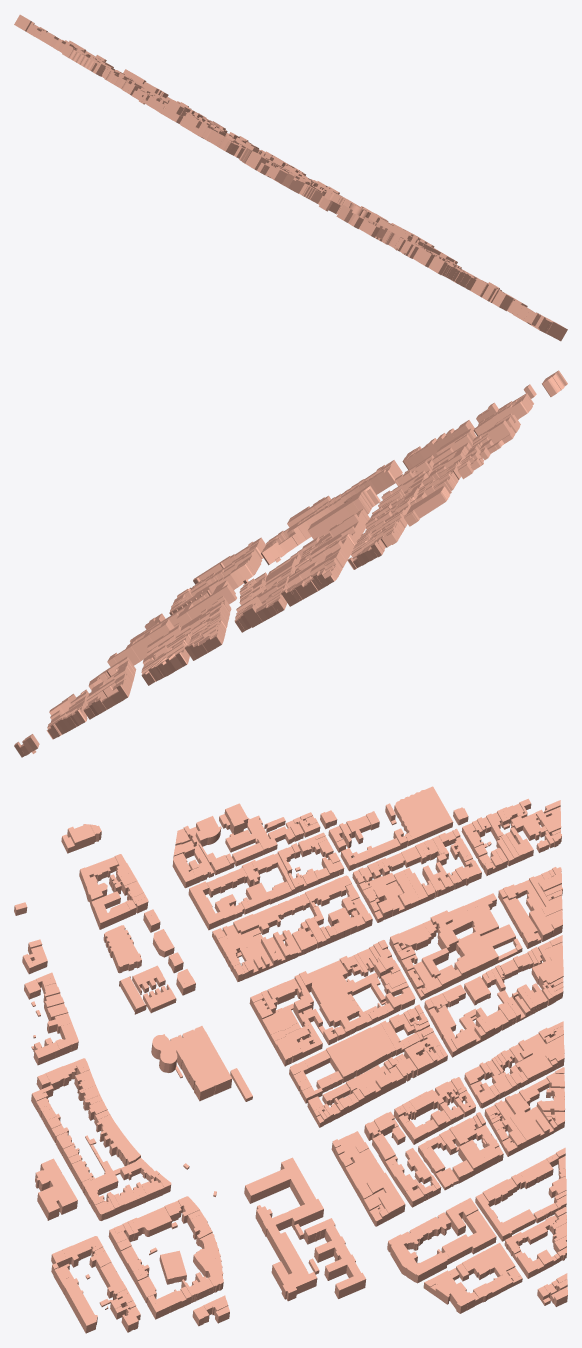
The picture shows the model from 3 angles, top to bottom: view 1: azimuth 30°, elevation 25°; view 2: azimuth 150°, elevation 25°; view 3: azimuth 270°, elevation 25°; orthographic projection. The views are drawn at different scales.
Bounding box in the file's own units: 550 × 401 × 594.
